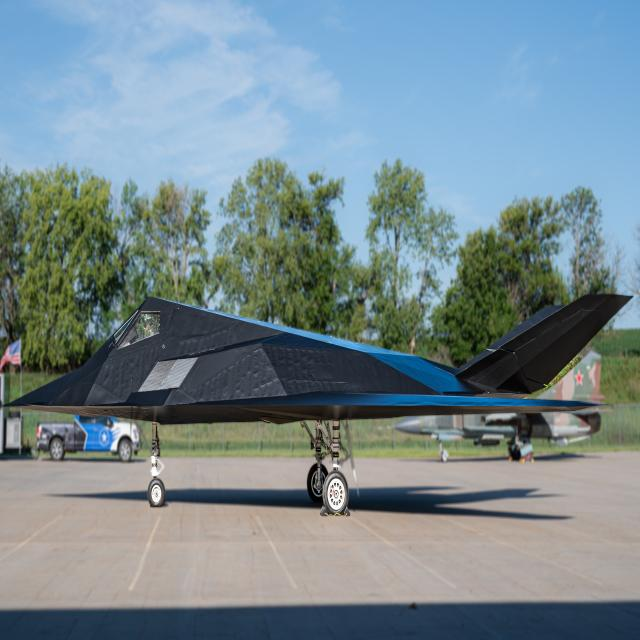F117: (0, 227, 640, 582)
